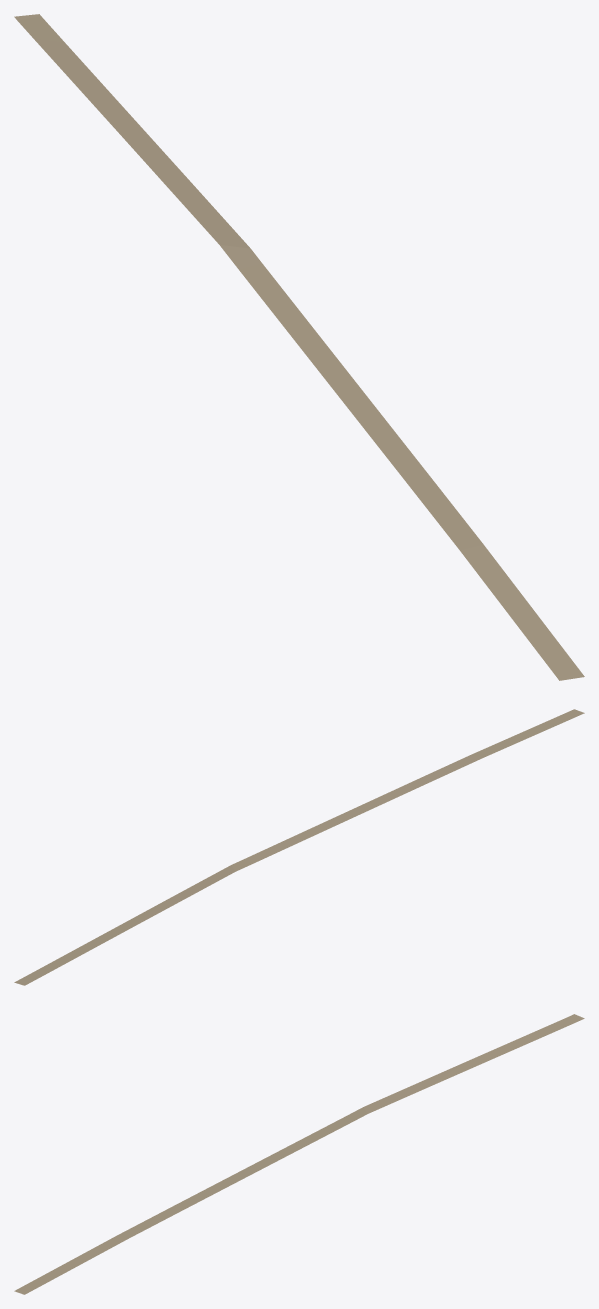
File: farm_23_38_track.glb
3 renders of one model, top to bottom at view 1: azimuth 30°, elevation 25°; view 2: azimuth 150°, elevation 25°; view 3: azimuth 330°, elevation 25°, orthographic. The views are drawn at different scales.
Visible parts, largest first — view 1: geometry_0; view 2: geometry_0; view 3: geometry_0.
Part boxes in pixels (x1,y1,x2,y2): geometry_0: [14, 14, 584, 680]; geometry_0: [14, 709, 584, 985]; geometry_0: [14, 1014, 584, 1294].
Bounding box in the file's own units: 40.66 × 3.29 × 198.
